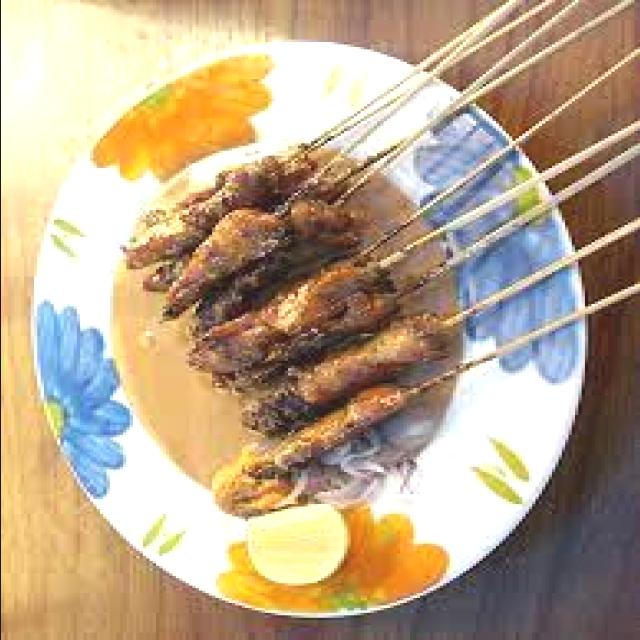sate: (129, 0, 640, 516)
